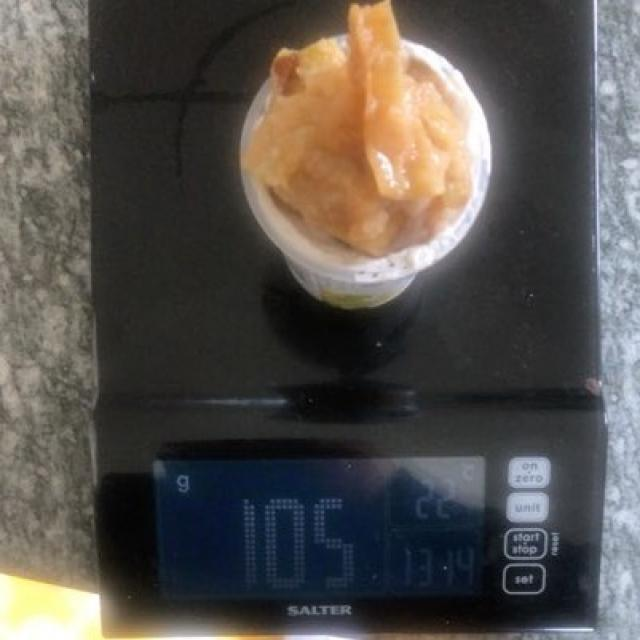applesauce: (248, 15, 484, 254)
